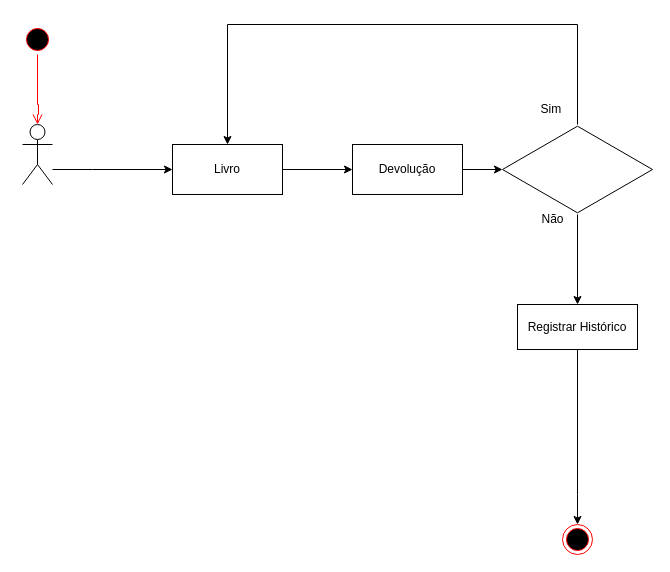
This 670x572 diagram has some shape labels left out. Here are the shapes that lost their labels. From the top down, the centre of each, then its label:
At (x=37, y=154): "Leitor 1".
At (x=577, y=169): "Devolver mais algum livro?".
